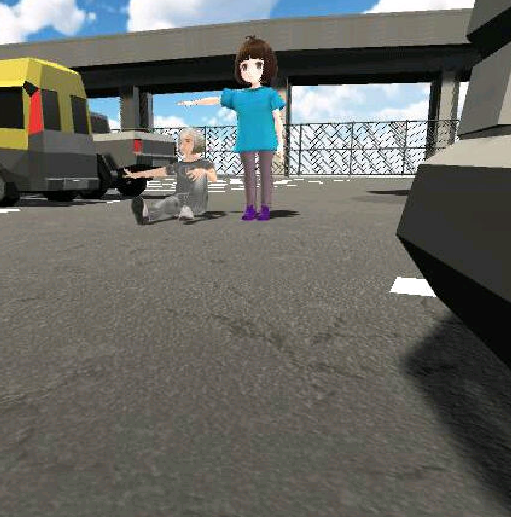doubleP_left: (122, 37, 287, 222)
